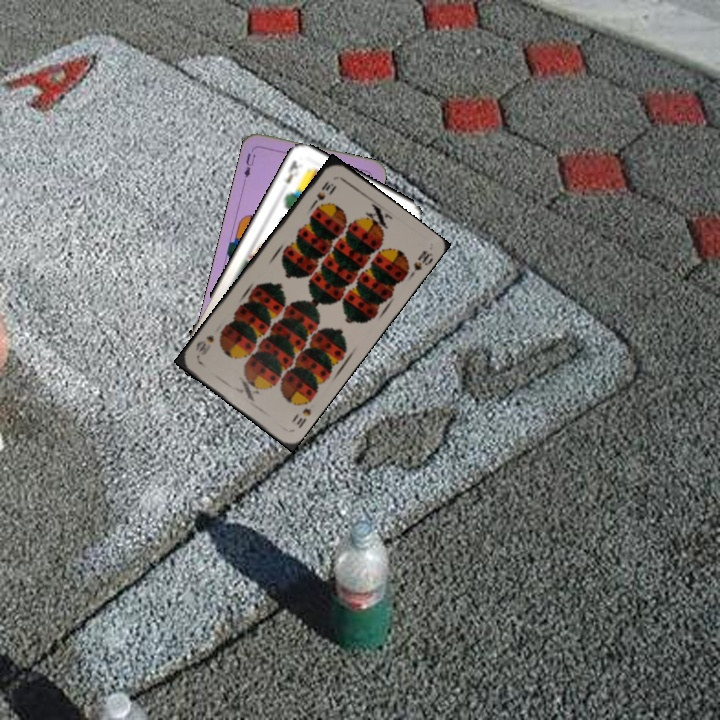EK: (281, 156, 305, 186)
EU: (238, 149, 258, 185)
S10: (307, 178, 337, 210), (292, 404, 314, 431)
